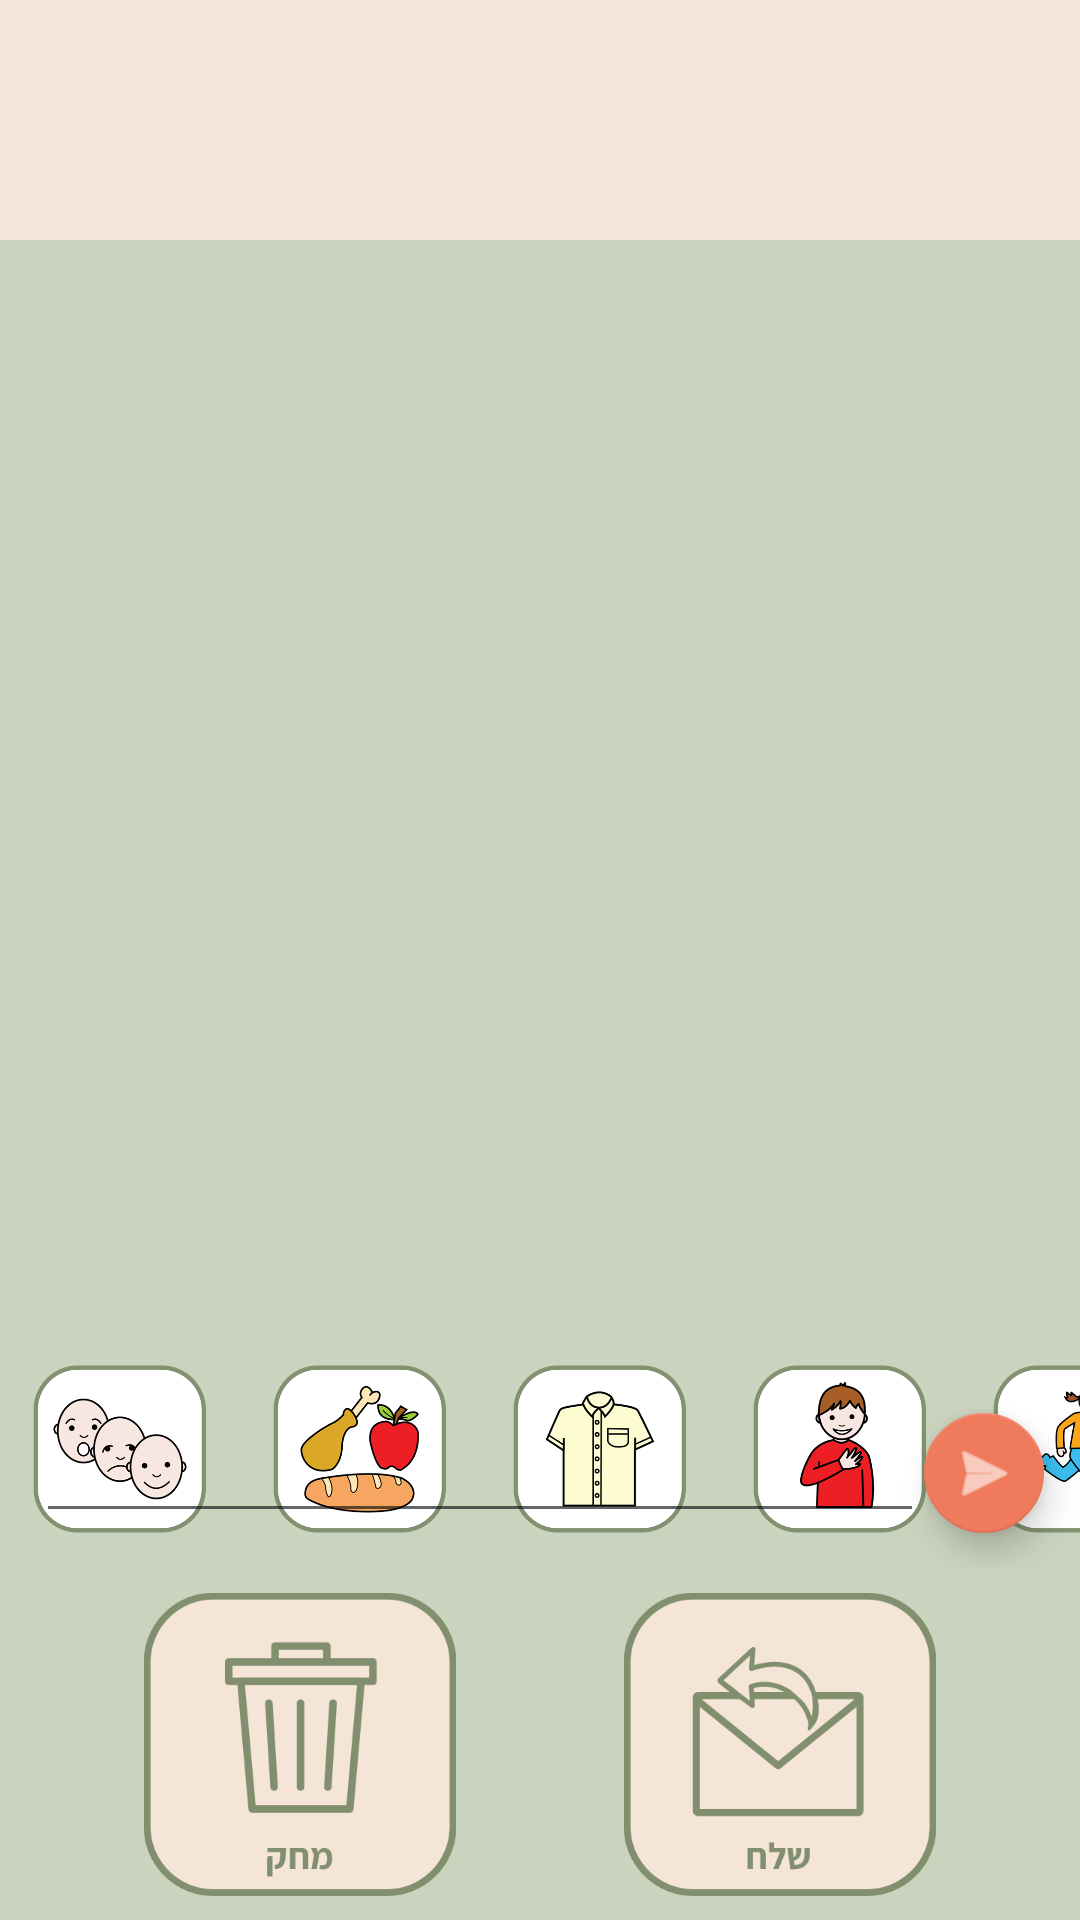

Locate icon controls on the screen. Image size 1080 x 1920, boxes as (x1, y1, x2, y2).
clothing: (480, 1365, 720, 1533)
emotions: (34, 1365, 240, 1533)
food: (240, 1365, 480, 1533)
